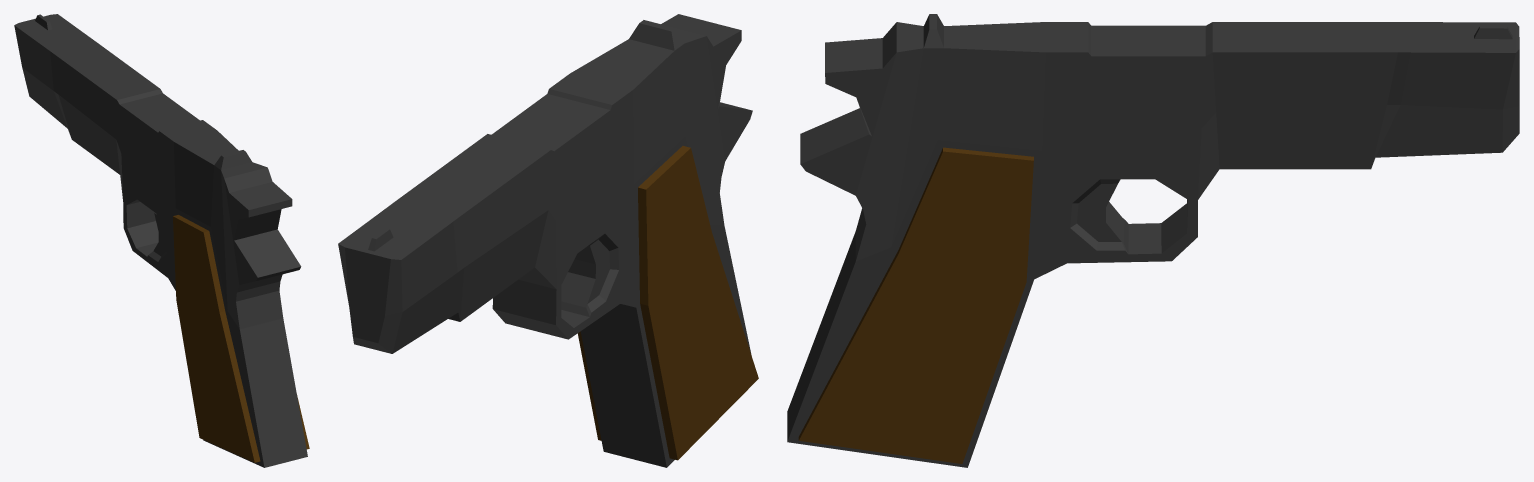
Rendered from placeholder gun.fbx.
3 views of the same model, side by side, from view 1: azimuth 30°, elevation 25°; view 2: azimuth 150°, elevation 25°; view 3: azimuth 270°, elevation 25° (orthographic). The views are drawn at different scales.
Visible parts, largest first — view 1: m911; view 2: m911; view 3: m911.
Part boxes in pixels (left/top/right/bottom): m911: left=14, top=14, right=309, bottom=467; m911: left=338, top=14, right=758, bottom=467; m911: left=787, top=14, right=1519, bottom=467.
Bounding box in the file's own units: 20.33 × 98.55 × 152.
